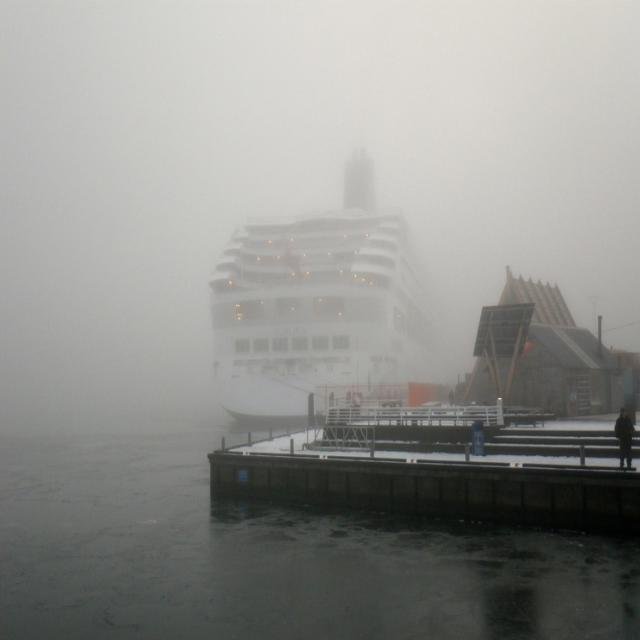passenger ship: (199, 176, 455, 396)
